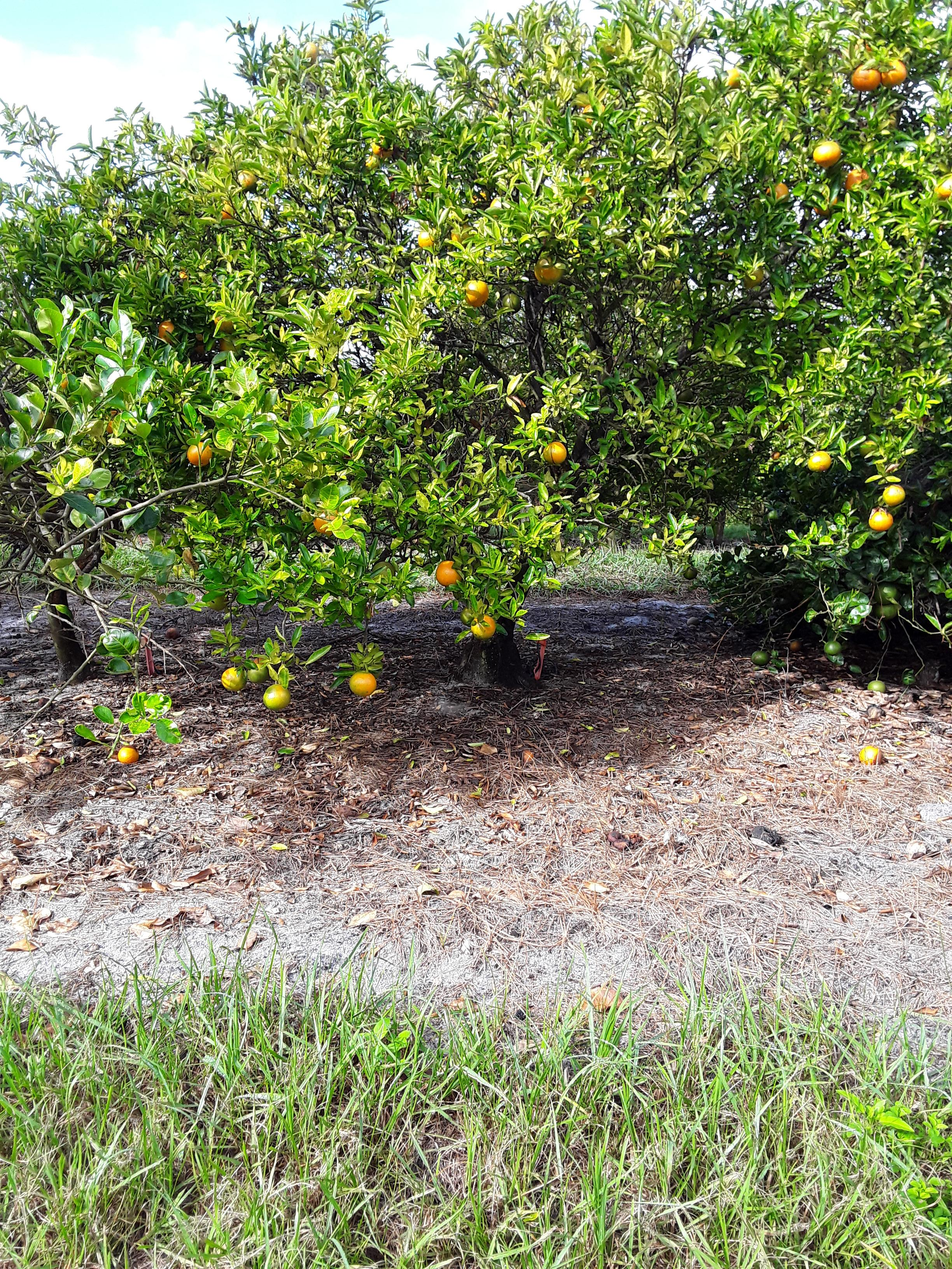fruit_on_ground: (848, 61, 882, 93), (532, 253, 566, 285), (809, 136, 843, 168), (576, 96, 609, 127), (809, 188, 843, 218), (571, 171, 601, 204), (100, 406, 131, 437), (347, 669, 379, 699), (311, 507, 343, 537), (879, 56, 910, 86), (261, 682, 293, 711), (737, 259, 766, 290), (846, 34, 878, 62), (842, 165, 873, 193), (762, 179, 793, 207), (184, 439, 215, 467), (447, 223, 479, 250), (434, 558, 463, 587), (461, 278, 490, 307), (219, 664, 249, 692), (469, 612, 498, 640), (541, 438, 570, 466), (872, 580, 901, 607), (368, 133, 398, 159), (368, 559, 398, 585), (881, 481, 909, 508), (487, 194, 515, 221), (203, 587, 230, 614), (30, 405, 58, 431), (806, 448, 834, 474), (466, 185, 495, 210), (721, 65, 748, 91), (868, 508, 896, 533), (856, 433, 884, 457), (215, 198, 240, 224), (51, 369, 75, 396), (244, 661, 271, 685), (235, 168, 259, 192), (931, 176, 952, 203), (499, 290, 523, 313), (156, 318, 178, 343), (875, 600, 900, 622), (458, 605, 481, 628), (299, 39, 321, 63), (415, 228, 438, 250), (190, 333, 212, 356), (214, 314, 237, 335), (821, 637, 844, 658), (749, 647, 772, 668), (767, 443, 788, 464), (674, 385, 695, 406), (219, 337, 242, 356), (361, 155, 382, 173), (680, 563, 700, 581), (173, 263, 192, 281)
fruit_on_tree: (856, 742, 884, 768), (115, 742, 142, 766), (866, 676, 888, 696), (163, 624, 182, 641), (787, 637, 804, 653), (685, 614, 703, 629)
